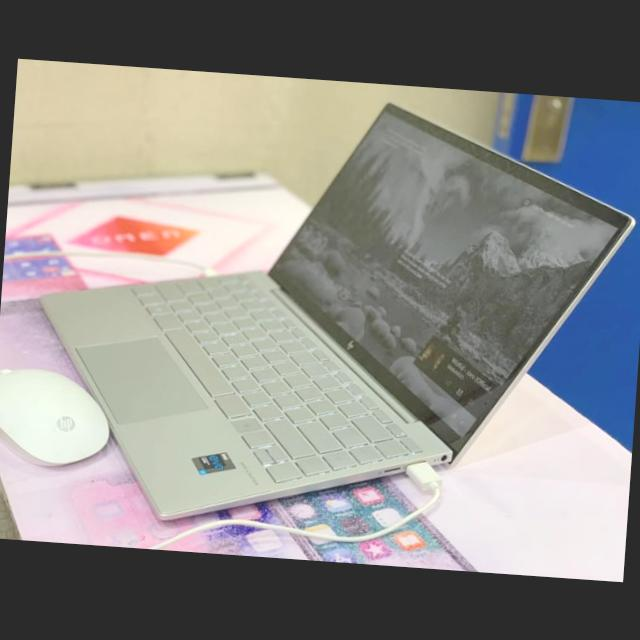laptop: (47, 79, 638, 554)
